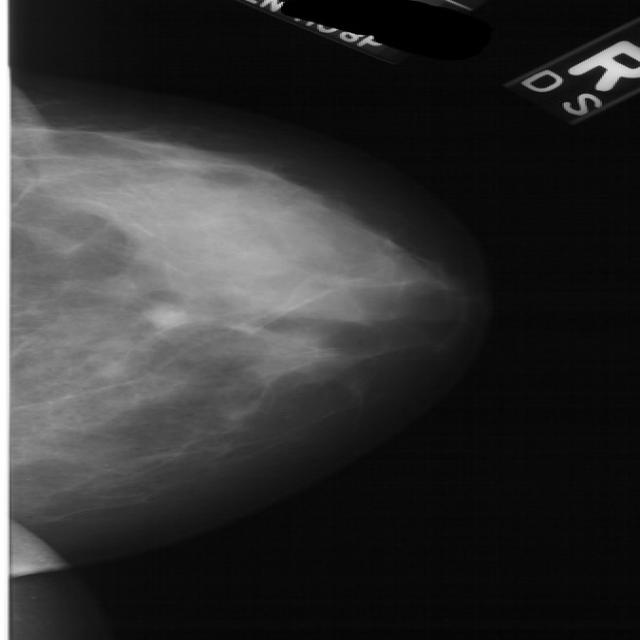tumour: (143, 302, 185, 328)
